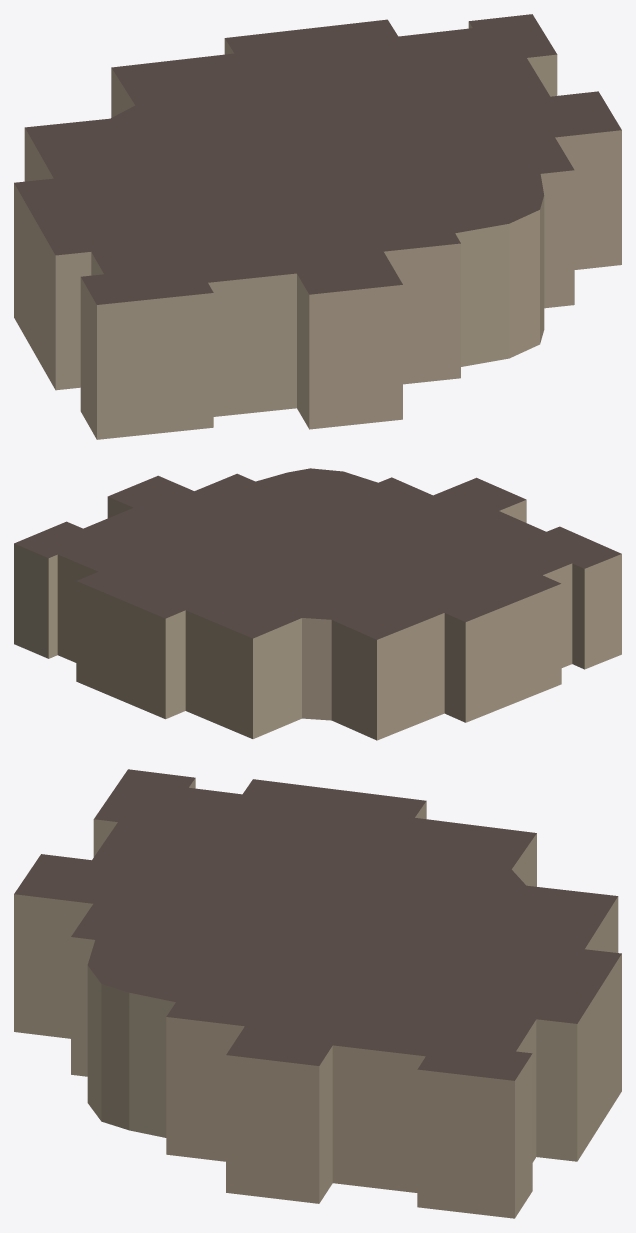
The picture shows the model from 3 angles, top to bottom: view 1: azimuth 30°, elevation 25°; view 2: azimuth 150°, elevation 25°; view 3: azimuth 270°, elevation 25°; orthographic projection. The views are drawn at different scales.
Visible parts, largest first — view 1: HP-w293397504; view 2: HP-w293397504; view 3: HP-w293397504.
Part boxes in pixels (<box>): HP-w293397504: <box>14,14,621,439</box>; HP-w293397504: <box>14,468,621,740</box>; HP-w293397504: <box>14,769,621,1218</box>.
Bounding box in the file's own units: 43.65 × 9 × 35.99.
